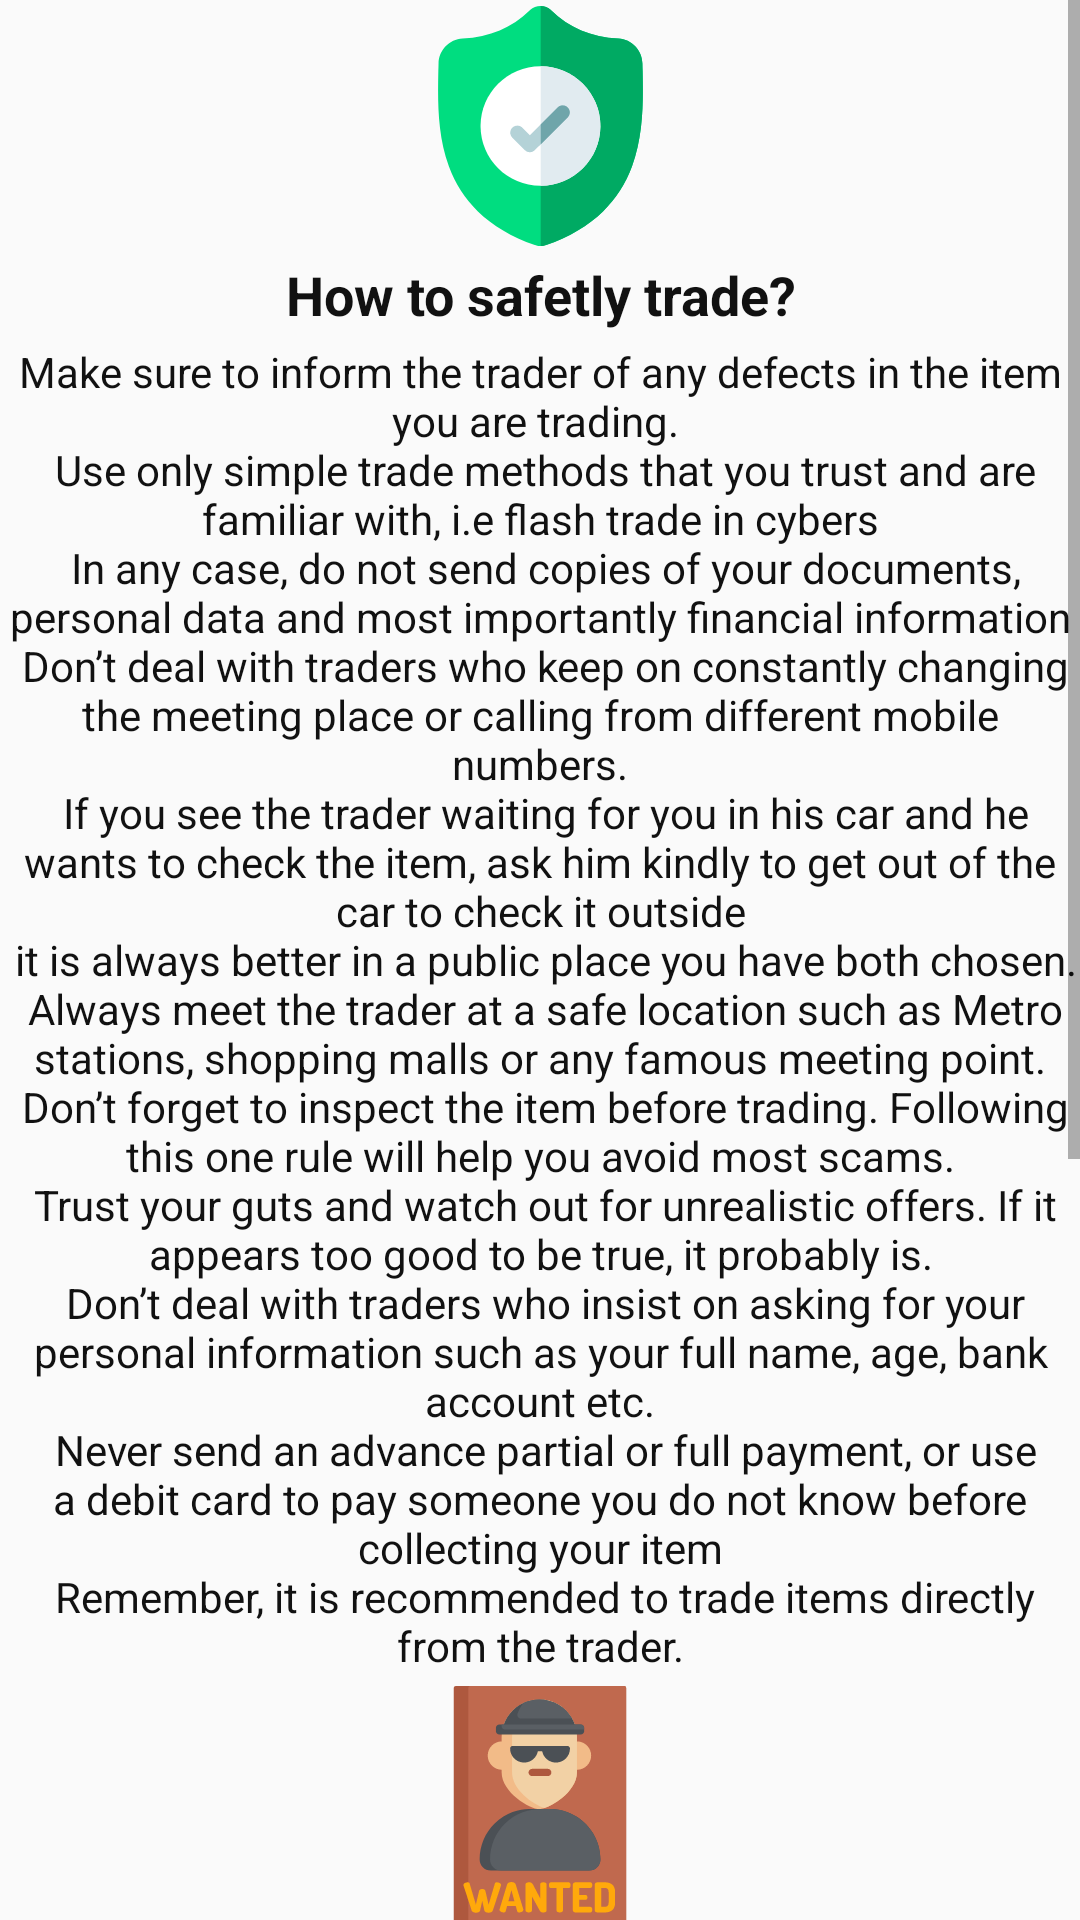

Locate icon controls on the screen. Image size 1080×1920, boxes as [left=x1, top=y1, right=x2, bottom=y2].
shield: [left=438, top=6, right=643, bottom=246]
